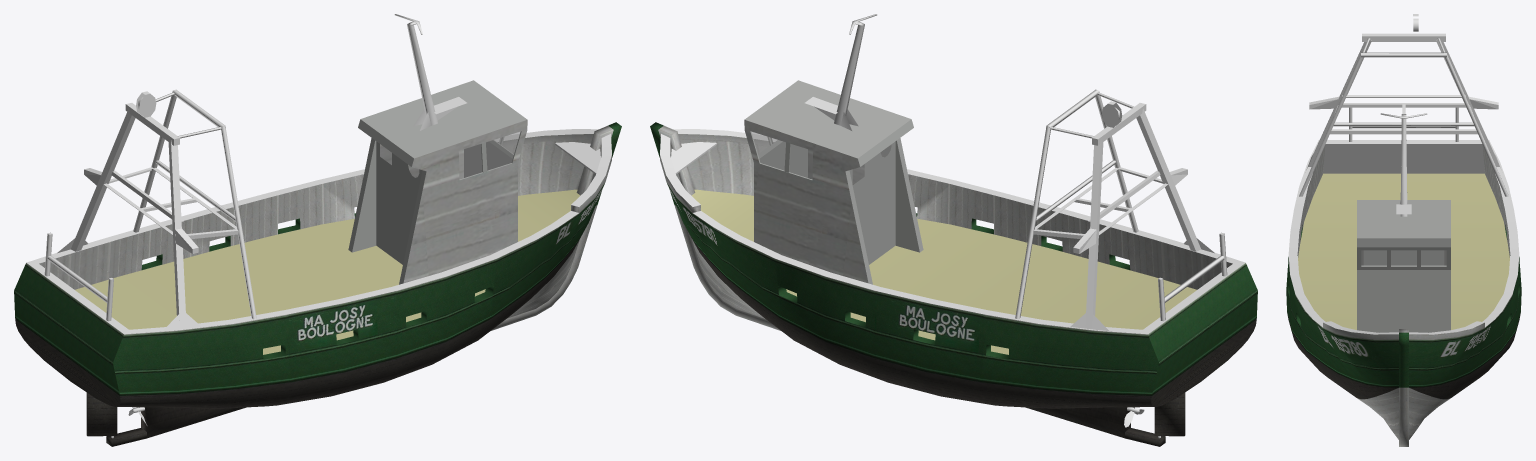
File: josy.dae
The picture shows the model from 3 angles, left to right: view 1: azimuth 30°, elevation 25°; view 2: azimuth 150°, elevation 25°; view 3: azimuth 270°, elevation 25°; orthographic projection. The views are drawn at different scales.
Parts seen in each view (by area): view 1: coque, cabine, pont, poupe, portique, lisse, quille, portiqueCylindre, mat, safran, coqueSabords, rampe (+1 smaller); view 2: coque, cabine, pont, poupe, portique, lisse, quille, portiqueCylindre, mat, safran, coqueSabords, rampe (+1 smaller); view 3: pont, coque, cabine, poupe, portique, lisse, portiqueCylindre, quille, mat, potence, rampe.
Boxes of the visible parts, left/top/right/bottom form: coque: left=39, top=134, right=611, bottom=408; cabine: left=348, top=80, right=527, bottom=284; pont: left=75, top=189, right=580, bottom=354; poupe: left=14, top=262, right=128, bottom=406; portique: left=57, top=103, right=238, bottom=330; lisse: left=27, top=129, right=611, bottom=334; quille: left=106, top=122, right=621, bottom=446; portiqueCylindre: left=133, top=89, right=256, bottom=319; mat: left=407, top=24, right=466, bottom=130; safran: left=86, top=392, right=117, bottom=436; coqueSabords: left=141, top=213, right=493, bottom=359; rampe: left=44, top=232, right=113, bottom=321; coque: left=660, top=134, right=1232, bottom=408; cabine: left=744, top=80, right=923, bottom=284; pont: left=691, top=189, right=1196, bottom=354; poupe: left=1143, top=262, right=1257, bottom=406; portique: left=1033, top=103, right=1214, bottom=330; lisse: left=660, top=129, right=1244, bottom=334; quille: left=650, top=122, right=1165, bottom=446; portiqueCylindre: left=1015, top=89, right=1138, bottom=319; mat: left=805, top=24, right=864, bottom=130; safran: left=1154, top=392, right=1185, bottom=436; coqueSabords: left=778, top=213, right=1130, bottom=359; rampe: left=1158, top=232, right=1227, bottom=321; pont: left=1298, top=173, right=1509, bottom=329; coque: left=1286, top=145, right=1521, bottom=439; cabine: left=1357, top=200, right=1450, bottom=332; poupe: left=1319, top=140, right=1488, bottom=173; portique: left=1306, top=33, right=1501, bottom=169; lisse: left=1288, top=140, right=1519, bottom=334; portiqueCylindre: left=1299, top=38, right=1508, bottom=196; quille: left=1399, top=329, right=1408, bottom=446; mat: left=1396, top=118, right=1411, bottom=216; potence: left=1309, top=96, right=1498, bottom=109; rampe: left=1349, top=107, right=1458, bottom=141.
Bounding box in the file's own units: 11.05 × 4.66 × 6.61.
Materials: 10 (5 with a texture image).
